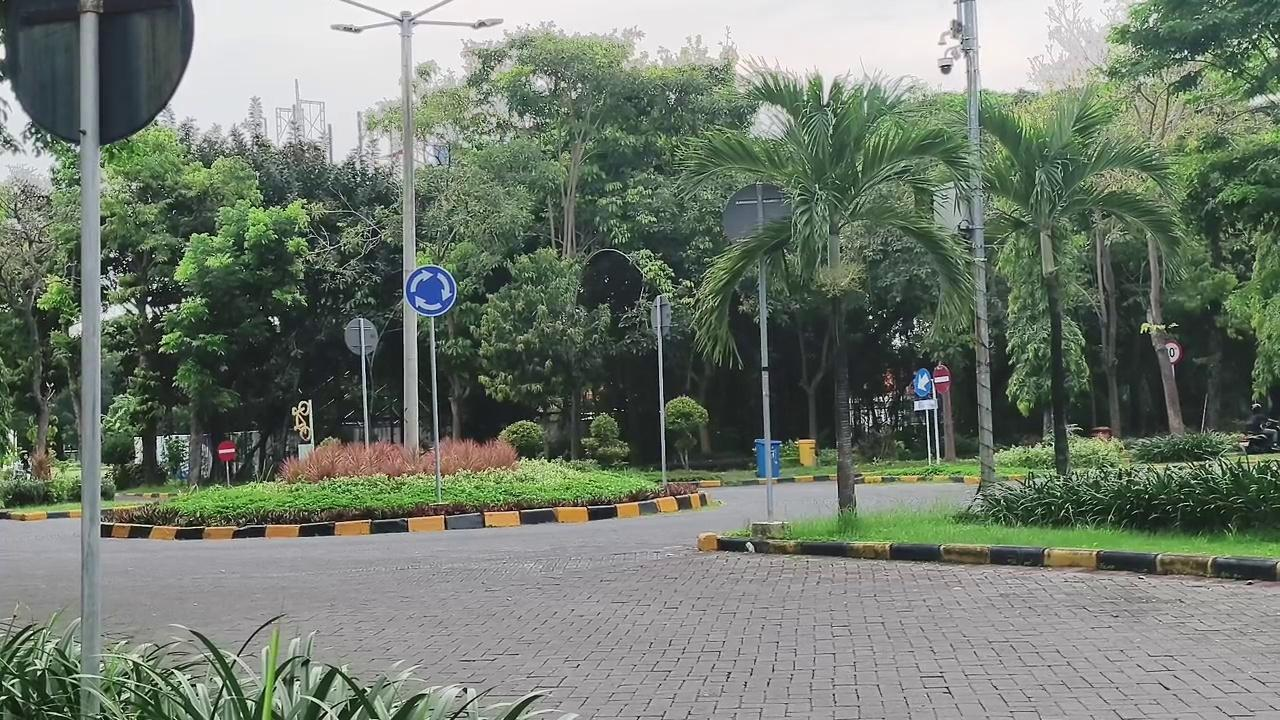Motor: (1239, 432, 1279, 454)
